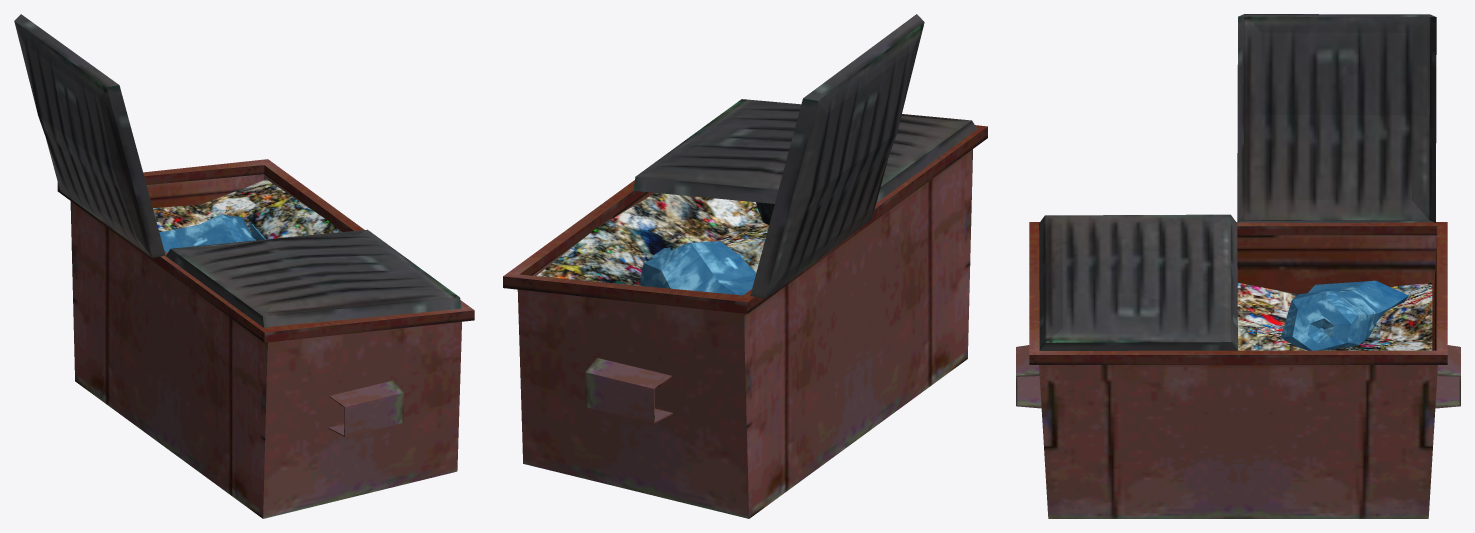
File: Urban_DumpsterDiagonalFullOpenRed_Model.fbx
3 renders of one model, left to right at view 1: azimuth 30°, elevation 25°; view 2: azimuth 150°, elevation 25°; view 3: azimuth 270°, elevation 25°, orthographic. The views are drawn at different scales.
Parts seen in each view (by area): view 1: Urban_DumpsterDiagonalFullOpenRed_Mesh; view 2: Urban_DumpsterDiagonalFullOpenRed_Mesh; view 3: Urban_DumpsterDiagonalFullOpenRed_Mesh.
Boxes of the visible parts, left/top/right/bottom form: Urban_DumpsterDiagonalFullOpenRed_Mesh: left=14, top=14, right=474, bottom=518; Urban_DumpsterDiagonalFullOpenRed_Mesh: left=503, top=14, right=987, bottom=518; Urban_DumpsterDiagonalFullOpenRed_Mesh: left=1016, top=14, right=1460, bottom=518.
Size of the model in its own units: 2.53 by 3.48 by 3.67.
